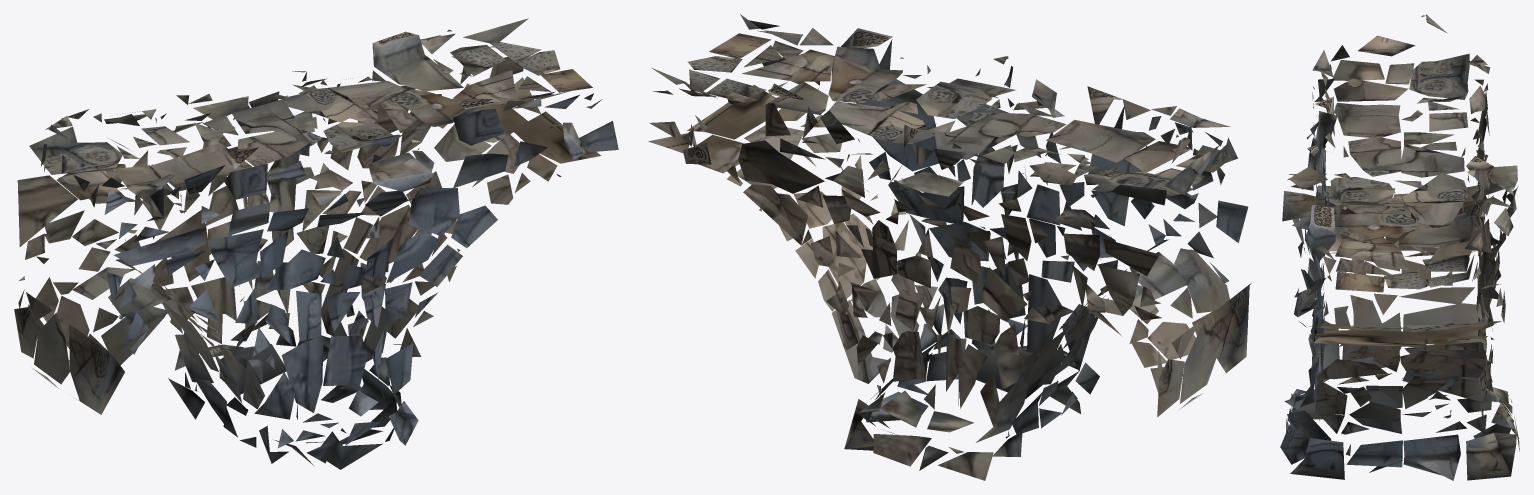
Rendered from arch_bridge_span_LOD3.glb.
3 views of the same model, side by side, from view 1: azimuth 30°, elevation 25°; view 2: azimuth 150°, elevation 25°; view 3: azimuth 270°, elevation 25° (orthographic). The views are drawn at different scales.
Visible parts, largest first — view 1: tripo_node_e0c340e7-bc99-4b1c-ba89-c9116086cf4d; view 2: tripo_node_e0c340e7-bc99-4b1c-ba89-c9116086cf4d; view 3: tripo_node_e0c340e7-bc99-4b1c-ba89-c9116086cf4d.
Part boxes in pixels (x1,y1,x2,y2): tripo_node_e0c340e7-bc99-4b1c-ba89-c9116086cf4d: (14, 18, 618, 469); tripo_node_e0c340e7-bc99-4b1c-ba89-c9116086cf4d: (648, 14, 1251, 480); tripo_node_e0c340e7-bc99-4b1c-ba89-c9116086cf4d: (1280, 14, 1519, 480).
Size of the model in its own units: 1.01 by 0.6587 by 0.433.
1 material, 1 textured.
